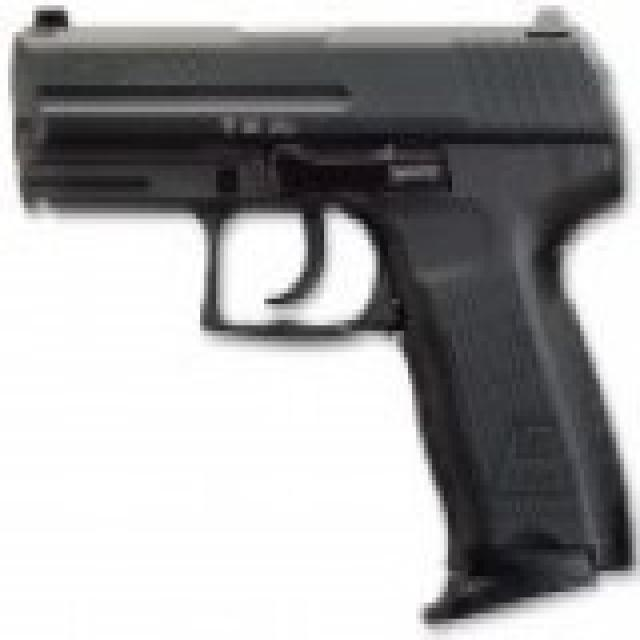gun: (3, 4, 640, 628)
